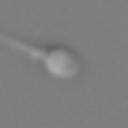normal: (3, 33, 43, 60)
